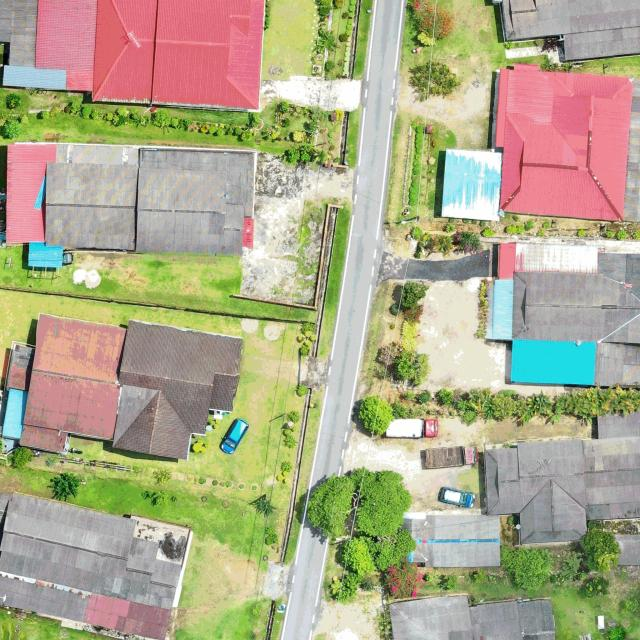Tree: (307, 465, 416, 573), (409, 59, 458, 100), (511, 546, 554, 592), (409, 0, 455, 41), (581, 528, 621, 572), (357, 394, 394, 435), (46, 470, 81, 502), (400, 280, 430, 308), (456, 230, 484, 256), (10, 445, 34, 470), (432, 233, 454, 257), (1, 118, 22, 140), (152, 110, 172, 128), (436, 387, 454, 405), (5, 92, 22, 109), (296, 385, 308, 397)
